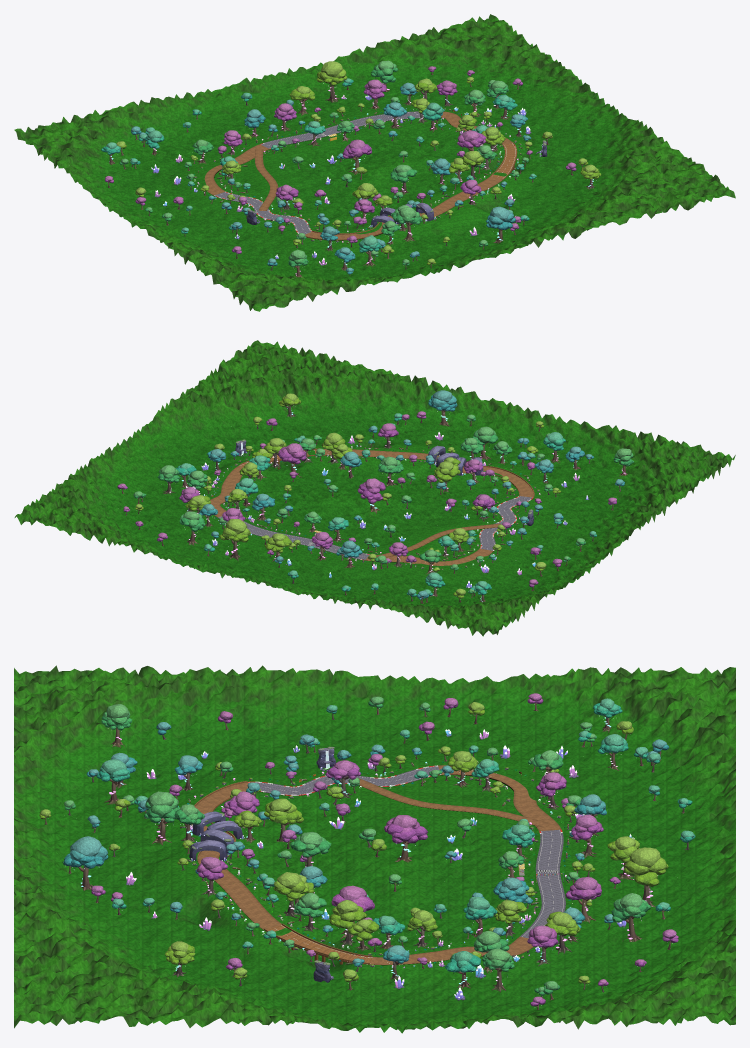
The model's file is bosque-cristal.glb.
3 views of the same model, one above another, from view 1: azimuth 30°, elevation 25°; view 2: azimuth 150°, elevation 25°; view 3: azimuth 270°, elevation 25° (orthographic). The views are drawn at different scales.
Parts seen in each view (by area): view 1: terrain4, terrain1, terrain0, terrain2, terrain11, terrain6, terrain3, terrain28, terrain22, sec6_props, terrain5, terrain24 (+32 smaller); view 2: terrain28, terrain27, terrain24, terrain25, terrain26, terrain23, terrain18, terrain22, terrain15, sec6_props, terrain14, terrain12 (+32 smaller); view 3: terrain18, terrain12, terrain6, terrain0, terrain24, terrain1, terrain25, terrain28, terrain3, terrain26, terrain4, terrain2 (+38 smaller).
Boxes of the visible parts, box(x1,y1,x2,y2) form: terrain4: box(353, 27, 485, 100); terrain1: box(100, 94, 225, 162); terrain0: box(14, 110, 146, 170); terrain2: box(183, 75, 313, 139); terrain11: box(486, 52, 590, 117); terrain6: box(64, 163, 195, 212); terrain3: box(268, 51, 400, 119); terrain28: box(548, 172, 679, 227); terrain22: box(505, 150, 631, 207); sec6_props: box(332, 173, 435, 275); terrain5: box(439, 14, 540, 78); terrain24: box(210, 266, 340, 311); terrain28: box(269, 351, 397, 422); terrain27: box(352, 373, 480, 443); terrain24: box(604, 433, 735, 493); terrain25: box(520, 419, 651, 486); terrain26: box(438, 398, 565, 464); terrain23: box(160, 375, 263, 438); terrain18: box(560, 482, 688, 531); terrain22: box(217, 388, 350, 462); terrain15: box(253, 458, 385, 517); sec6_props: box(401, 421, 594, 509); terrain14: box(338, 480, 470, 535); terrain12: box(507, 523, 639, 570); terrain18: box(153, 665, 298, 759); terrain12: box(299, 669, 444, 758); terrain6: box(444, 667, 590, 758); terrain0: box(590, 667, 735, 757); terrain24: box(14, 665, 153, 756); terrain1: box(590, 731, 735, 820); terrain25: box(14, 727, 153, 820); terrain28: box(14, 913, 153, 985); terrain3: box(590, 864, 735, 944); terrain26: box(14, 803, 153, 881); terrain4: box(590, 920, 735, 998); terrain2: box(590, 800, 735, 881).
Bounding box in the file's own units: 680 × 61.96 × 595.
Materials: 32 (14 with a texture image).
